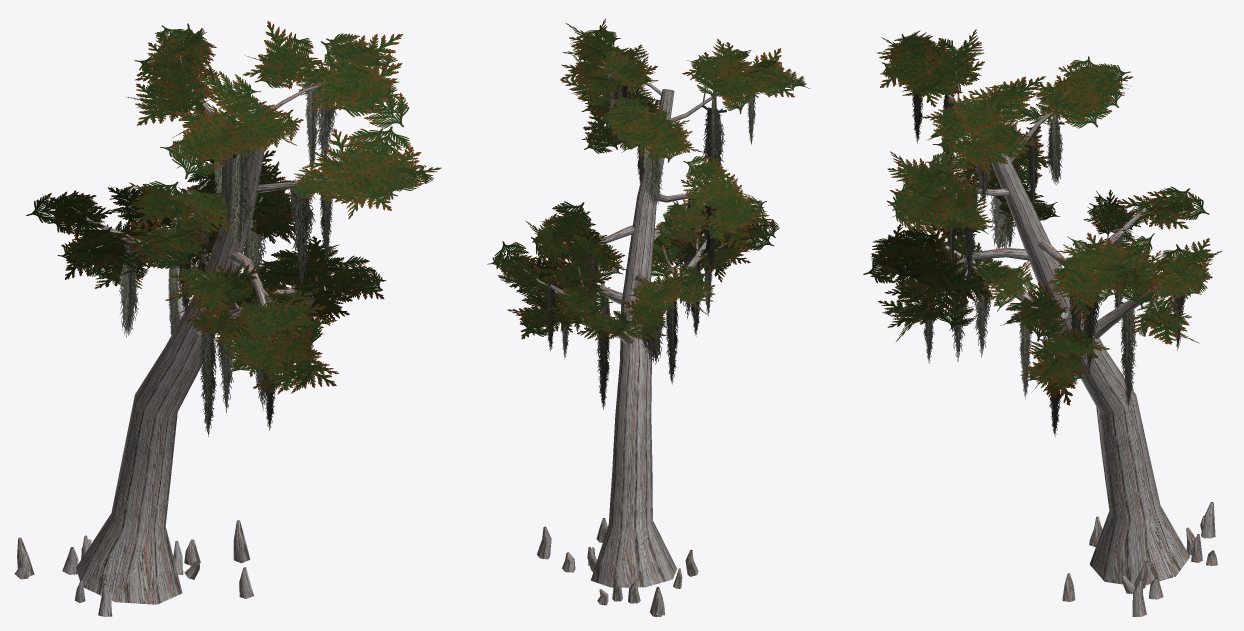
The model's file is nature-black-swamp-cypress_v4.glb.
3 views of the same model, side by side, from view 1: azimuth 30°, elevation 25°; view 2: azimuth 150°, elevation 25°; view 3: azimuth 270°, elevation 25° (orthographic). The views are drawn at different scales.
Parts seen in each view (by area): view 1: nature-black-swamp-cypress; view 2: nature-black-swamp-cypress; view 3: nature-black-swamp-cypress.
Boxes of the visible parts, left/top/right/bottom form: nature-black-swamp-cypress: left=14, top=21, right=441, bottom=616; nature-black-swamp-cypress: left=487, top=18, right=810, bottom=616; nature-black-swamp-cypress: left=863, top=29, right=1222, bottom=616.
Bounding box in the file's own units: 6.22 × 11.54 × 7.42.
Materials: 2 (2 with a texture image).
